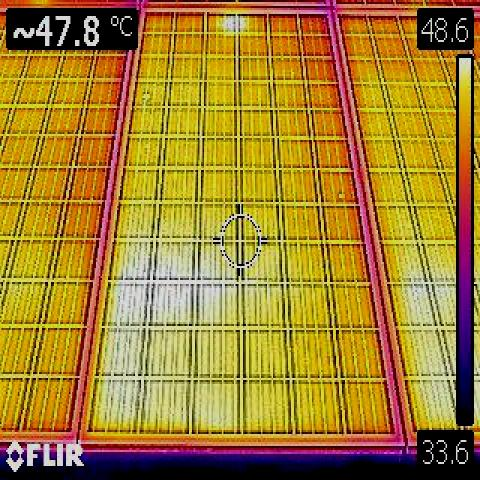fault: (100, 236, 198, 330), (224, 14, 247, 31)
